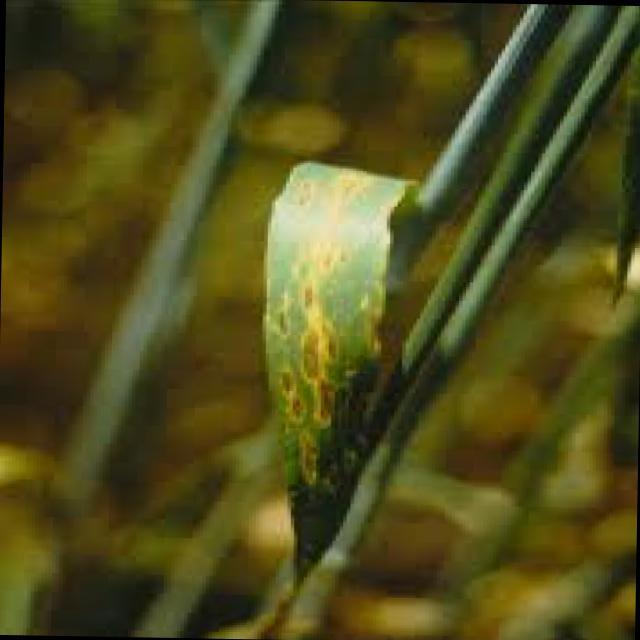leaf_blight: (265, 163, 412, 579)
